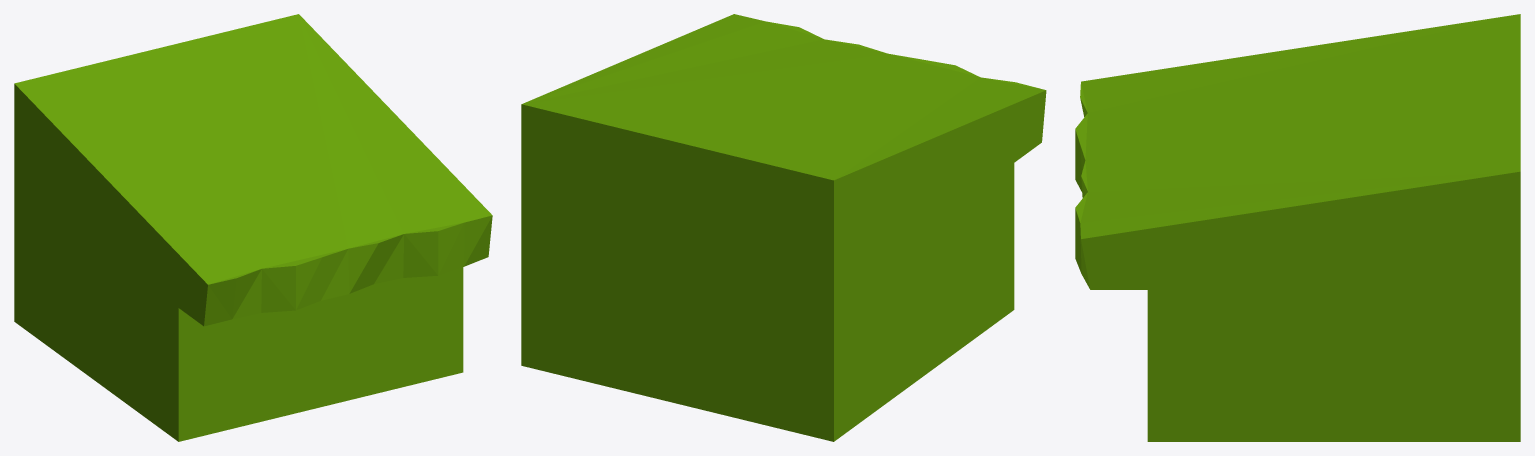
The model's file is TileGround_37.fbx.
The picture shows the model from 3 angles, left to right: view 1: azimuth 30°, elevation 25°; view 2: azimuth 150°, elevation 25°; view 3: azimuth 270°, elevation 25°; orthographic projection. The views are drawn at different scales.
Visible parts, largest first — view 1: TileGround_37; view 2: TileGround_37; view 3: TileGround_37.
Part boxes in pixels (<box>): TileGround_37: <box>14,14,492,441</box>; TileGround_37: <box>521,14,1046,441</box>; TileGround_37: <box>1075,14,1520,441</box>.
Size of the model in its own units: 500 by 400 by 597.
